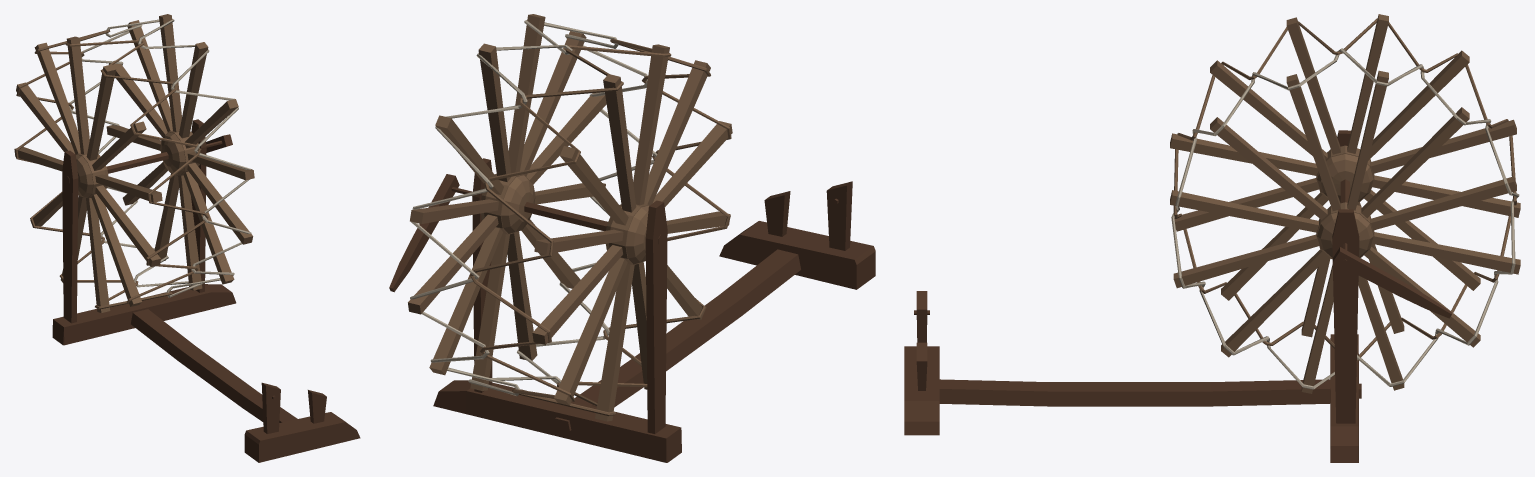
3 views of the same model, side by side, from view 1: azimuth 30°, elevation 25°; view 2: azimuth 150°, elevation 25°; view 3: azimuth 270°, elevation 25° (orthographic). The views are drawn at different scales.
Parts seen in each view (by area): view 1: 纺车; view 2: 纺车; view 3: 纺车.
Part boxes in pixels (box(x1,y1,x2,y2)): 纺车: box(14, 14, 360, 462); 纺车: box(389, 14, 875, 462); 纺车: box(904, 14, 1520, 462).
Bounding box in the file's own units: 70.41 × 172 × 111.
